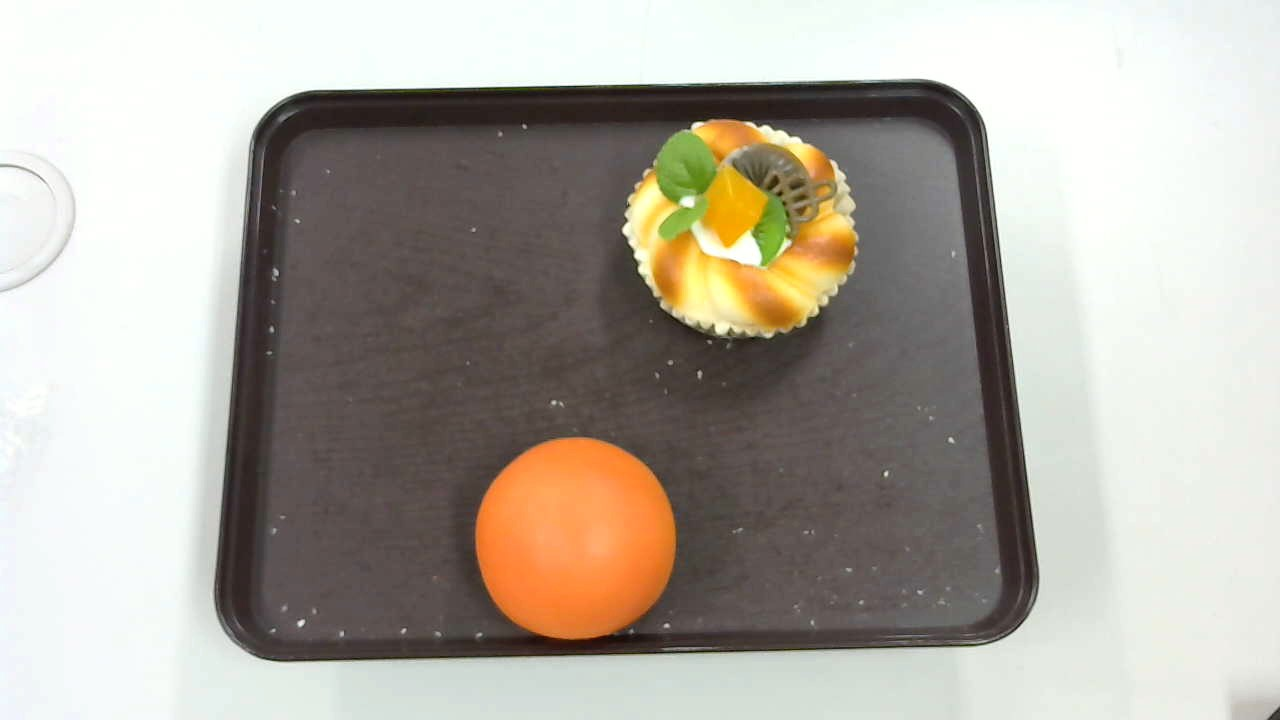bun: (476, 436, 675, 641)
fruit tart: (621, 118, 861, 341)
